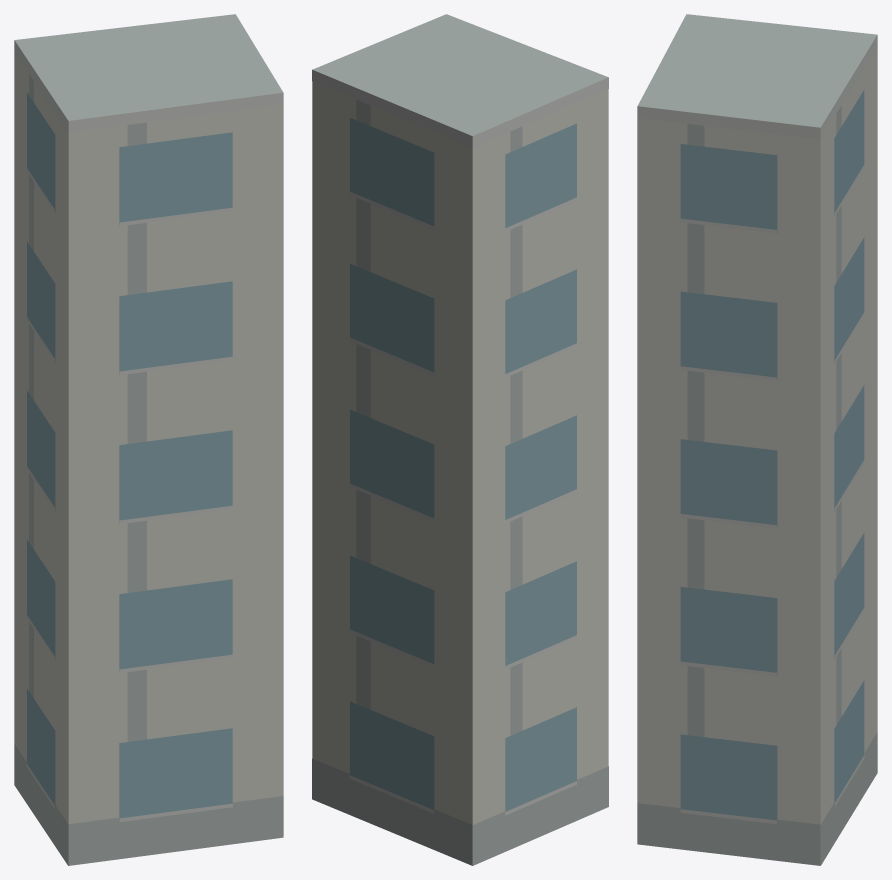
The model's file is survey-upis-32758538.glb.
3 renders of one model, left to right at view 1: azimuth 30°, elevation 25°; view 2: azimuth 150°, elevation 25°; view 3: azimuth 270°, elevation 25°, orthographic. The views are drawn at different scales.
Visible parts, largest first — view 1: survey-upis-32758538.tmp; view 2: survey-upis-32758538.tmp; view 3: survey-upis-32758538.tmp.
Part boxes in pixels (bbox=[...]): survey-upis-32758538.tmp: bbox=[14, 14, 283, 865]; survey-upis-32758538.tmp: bbox=[312, 14, 608, 865]; survey-upis-32758538.tmp: bbox=[637, 14, 877, 865].
Bounding box in the file's own units: 5.04 × 15.25 × 4.51.
